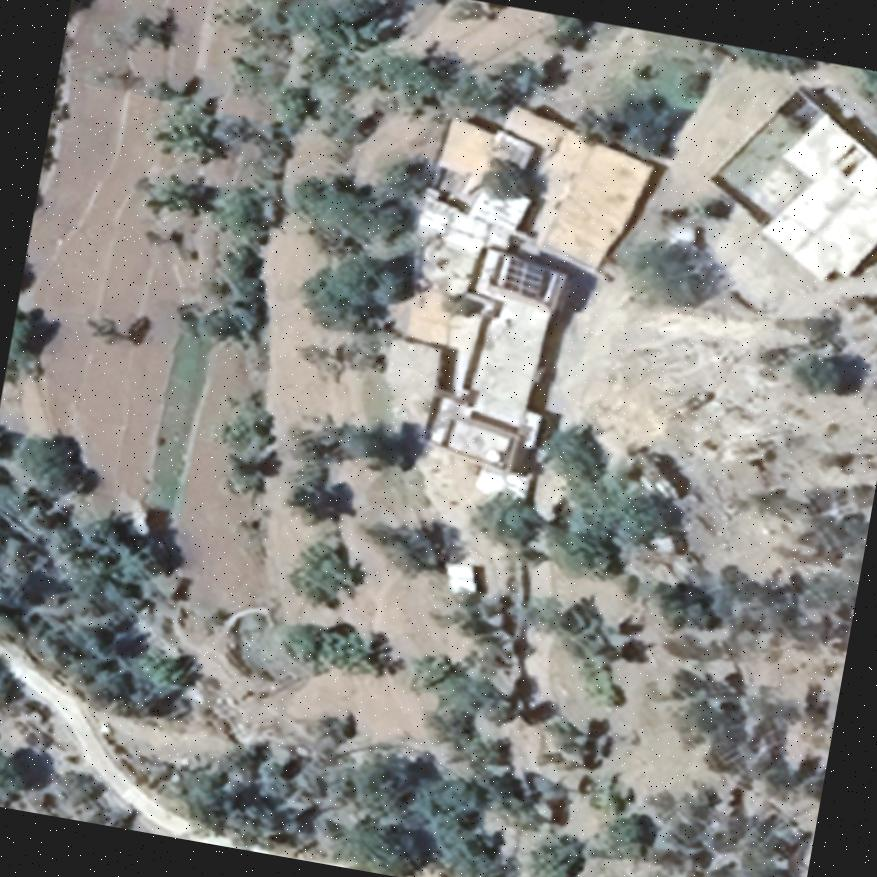Solarpanel: (498, 252, 550, 300)
